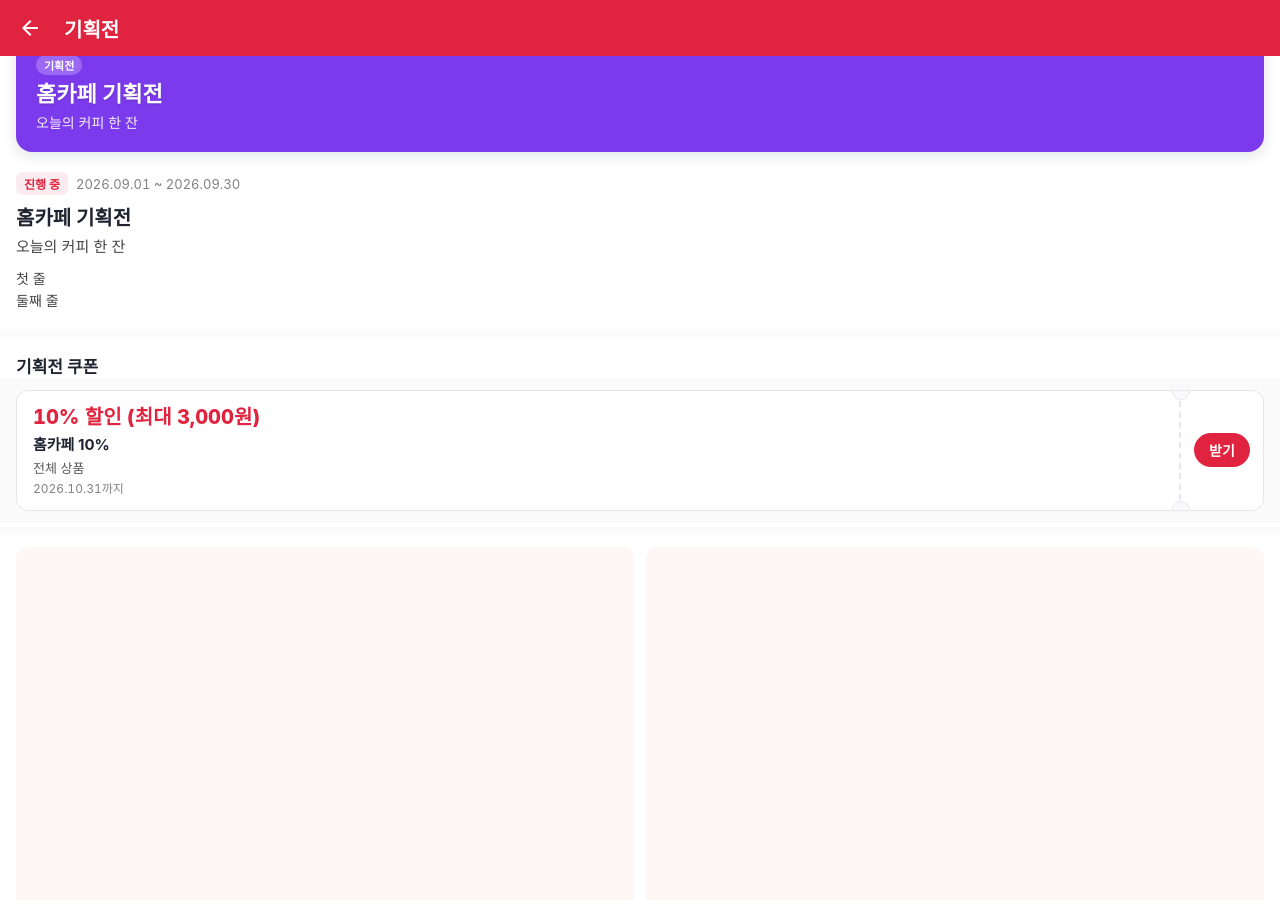
Test: PromotionPage › shows exhibition coupons with 받기 buttons
This screenshot has width=1280, height=900.
(page scrolled)
Expected: the heading "기획전 쿠폰" is shown, [16,357,98,377]
Step 1. Click the button with aria-label "홈카페 10% 받기" → [1222, 450], box [1194,433,1250,467]
(page scrolled)
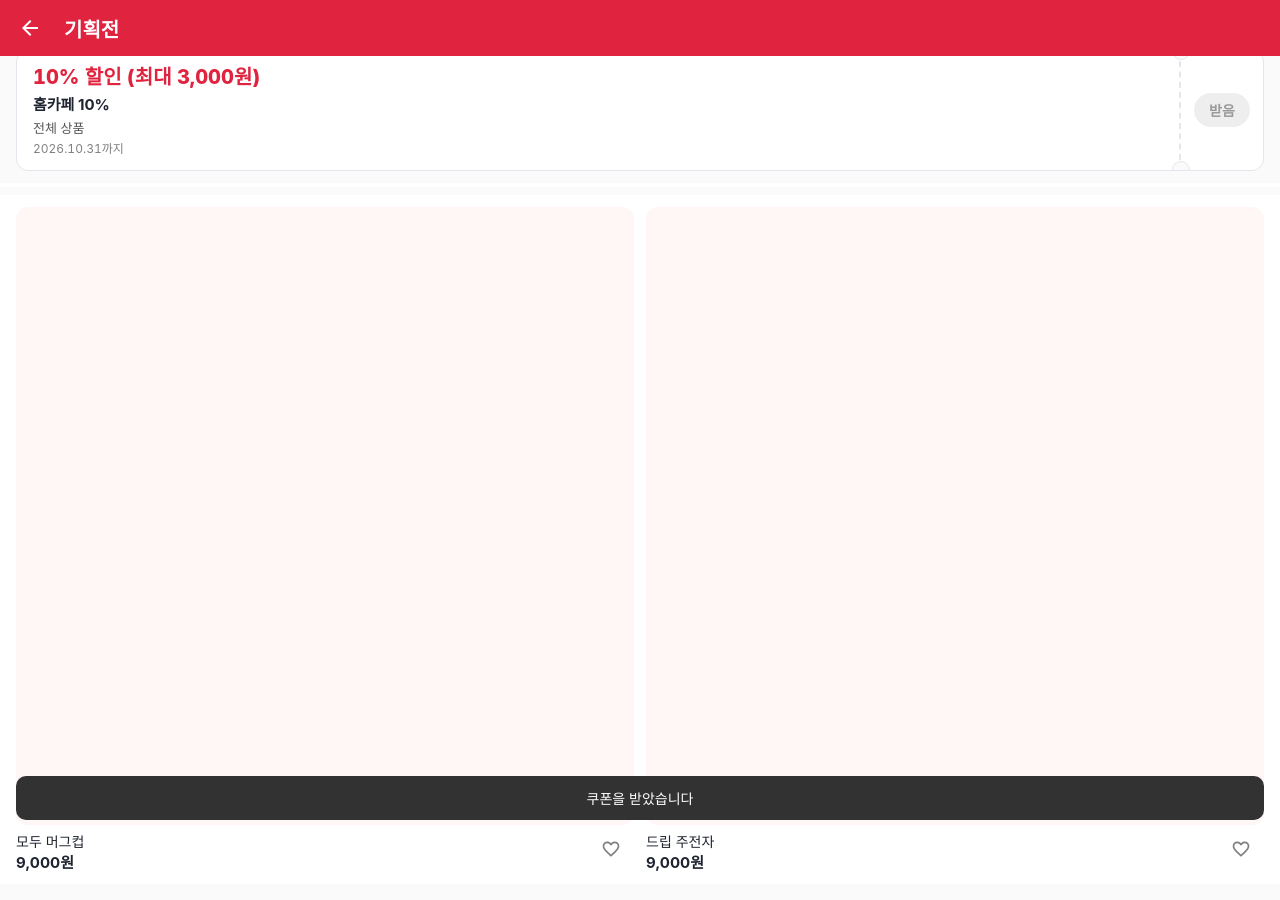
Expected: the text "드립 주전자" is shown, [646,833,714,850]
Now the button with aria-label "홈카페 10% 받음" is disabled, box [1194,93,1250,127]
